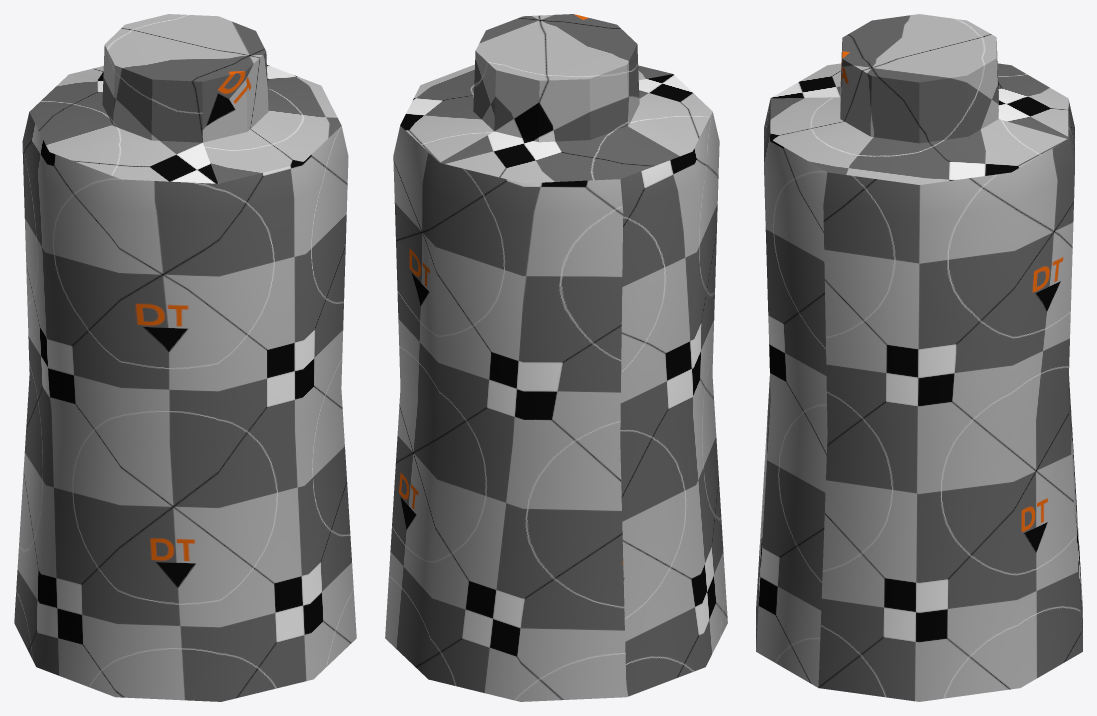
Rendered from pile.fbx.
3 views of the same model, side by side, from view 1: azimuth 30°, elevation 25°; view 2: azimuth 150°, elevation 25°; view 3: azimuth 270°, elevation 25° (orthographic).
Parts seen in each view (by area): view 1: Pile; view 2: Pile; view 3: Pile.
Boxes of the visible parts, x1,y1,x2,y2 form: Pile: (14,14,356,701); Pile: (385,14,727,701); Pile: (756,14,1082,701).
Bounding box in the file's own units: 11.63 × 21.72 × 11.06.
1 material, 1 textured.
